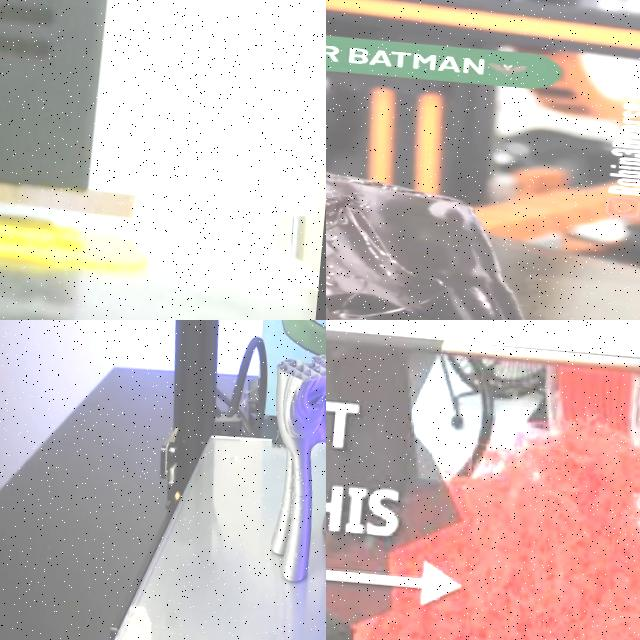spaghetti: (362, 412, 640, 640), (326, 140, 465, 320)
